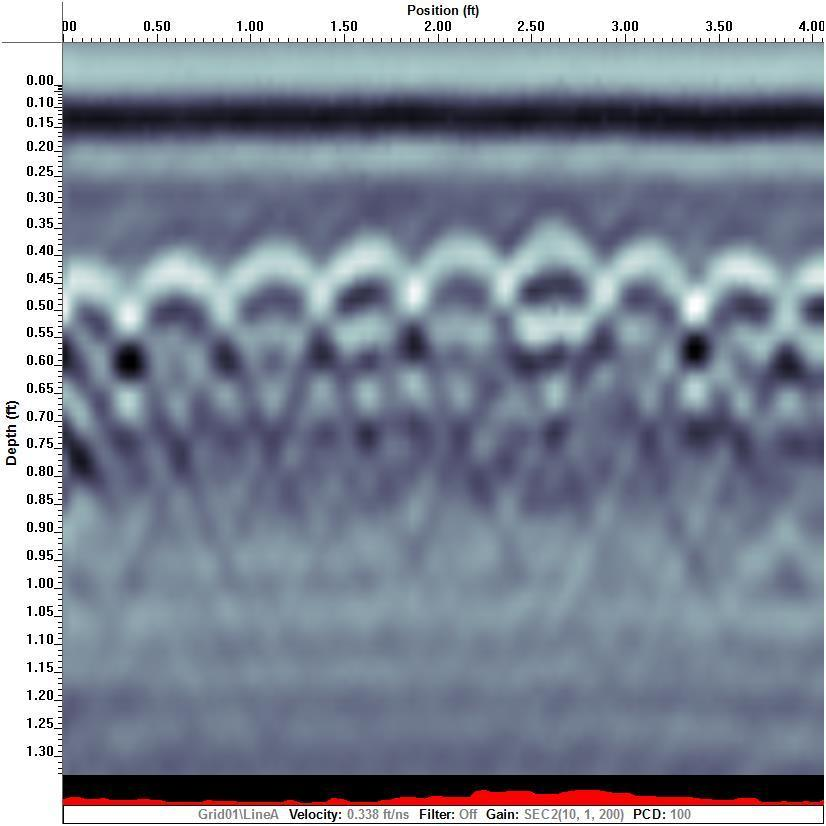hyperbola: (108, 251, 248, 531), (203, 237, 343, 517), (293, 230, 433, 510), (388, 228, 528, 508), (481, 220, 621, 500), (575, 233, 715, 513), (659, 235, 799, 515), (63, 258, 187, 556)
